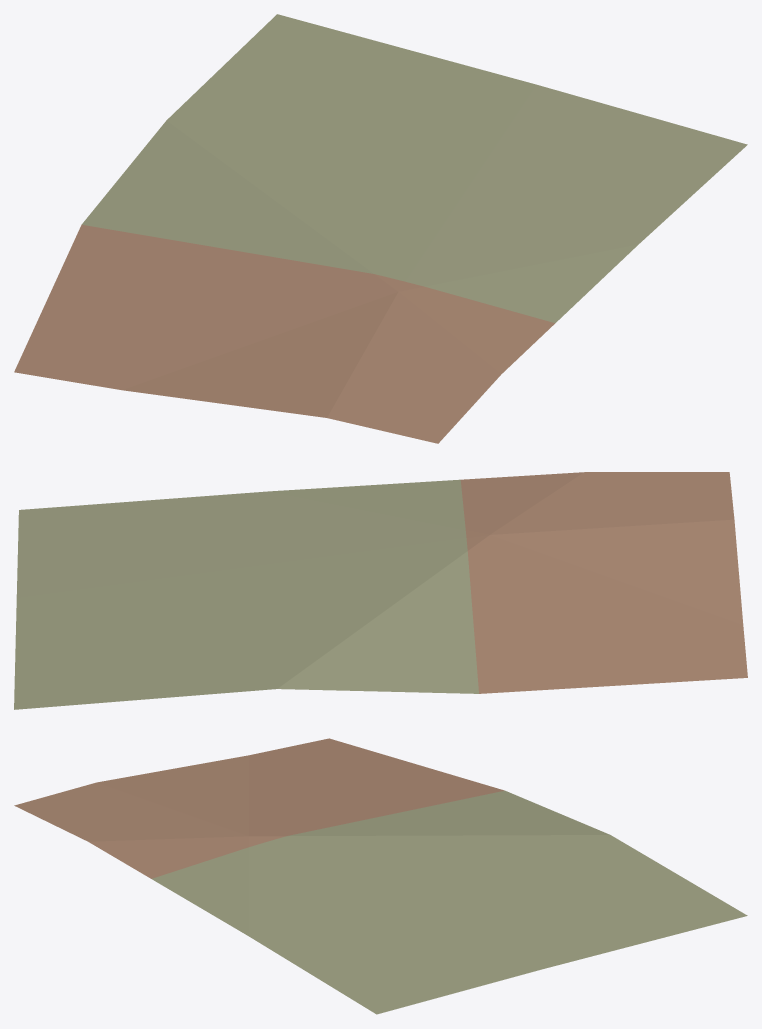
Rendered from farm_19_8_soil.glb.
3 views of the same model, one above another, from view 1: azimuth 30°, elevation 25°; view 2: azimuth 150°, elevation 25°; view 3: azimuth 270°, elevation 25° (orthographic). The views are drawn at different scales.
Visible parts, largest first — view 1: geometry_0; view 2: geometry_0; view 3: geometry_0.
Part boxes in pixels (left/top/right/bottom): geometry_0: left=14, top=14, right=747, bottom=443; geometry_0: left=14, top=472, right=747, bottom=709; geometry_0: left=14, top=738, right=747, bottom=1014.
Bounding box in the file's own units: 98.7 × 4.77 × 105.
